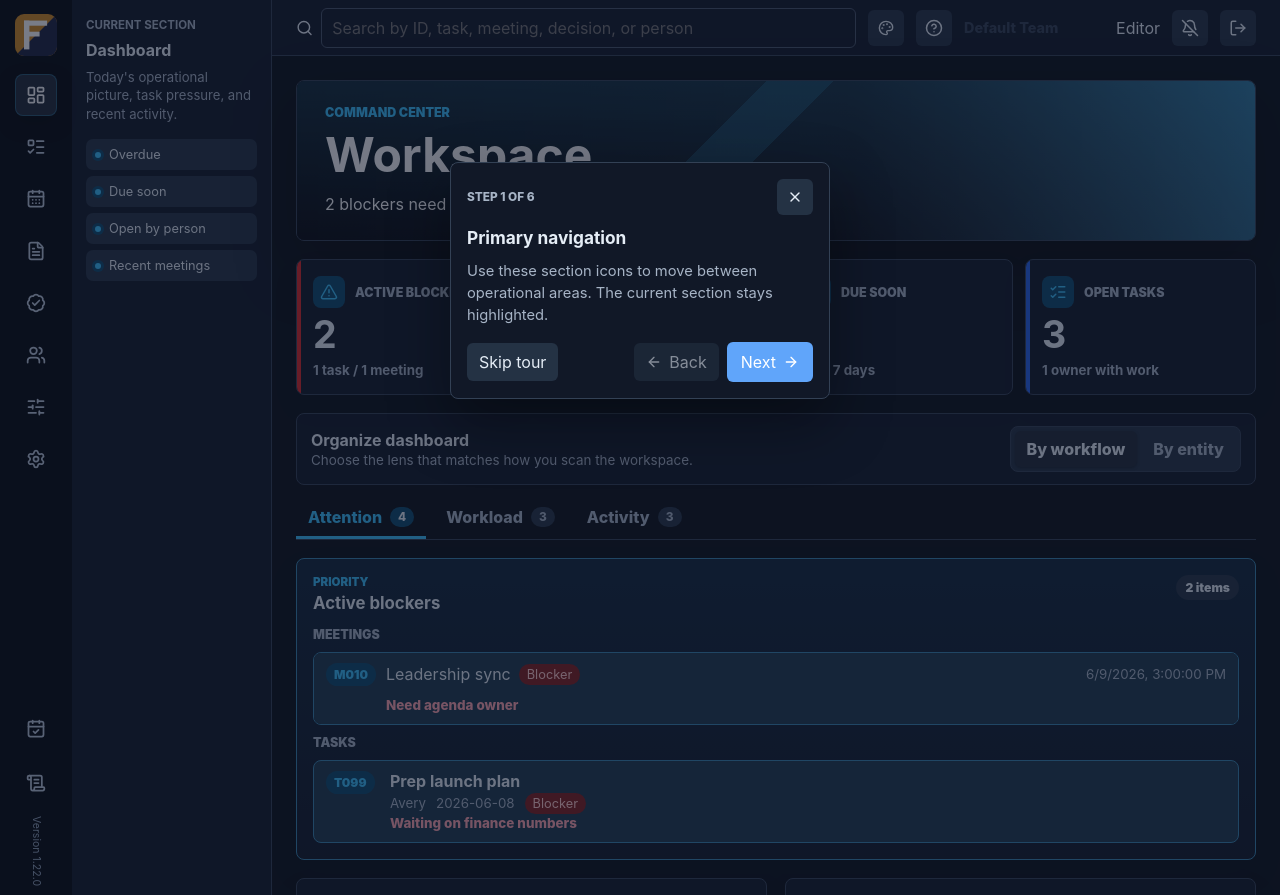
Test: dashboard and workspace flows › expands open tasks by assignee from the dashboard
Click the button "Workload 3": (500, 518) [434,497,567,539]
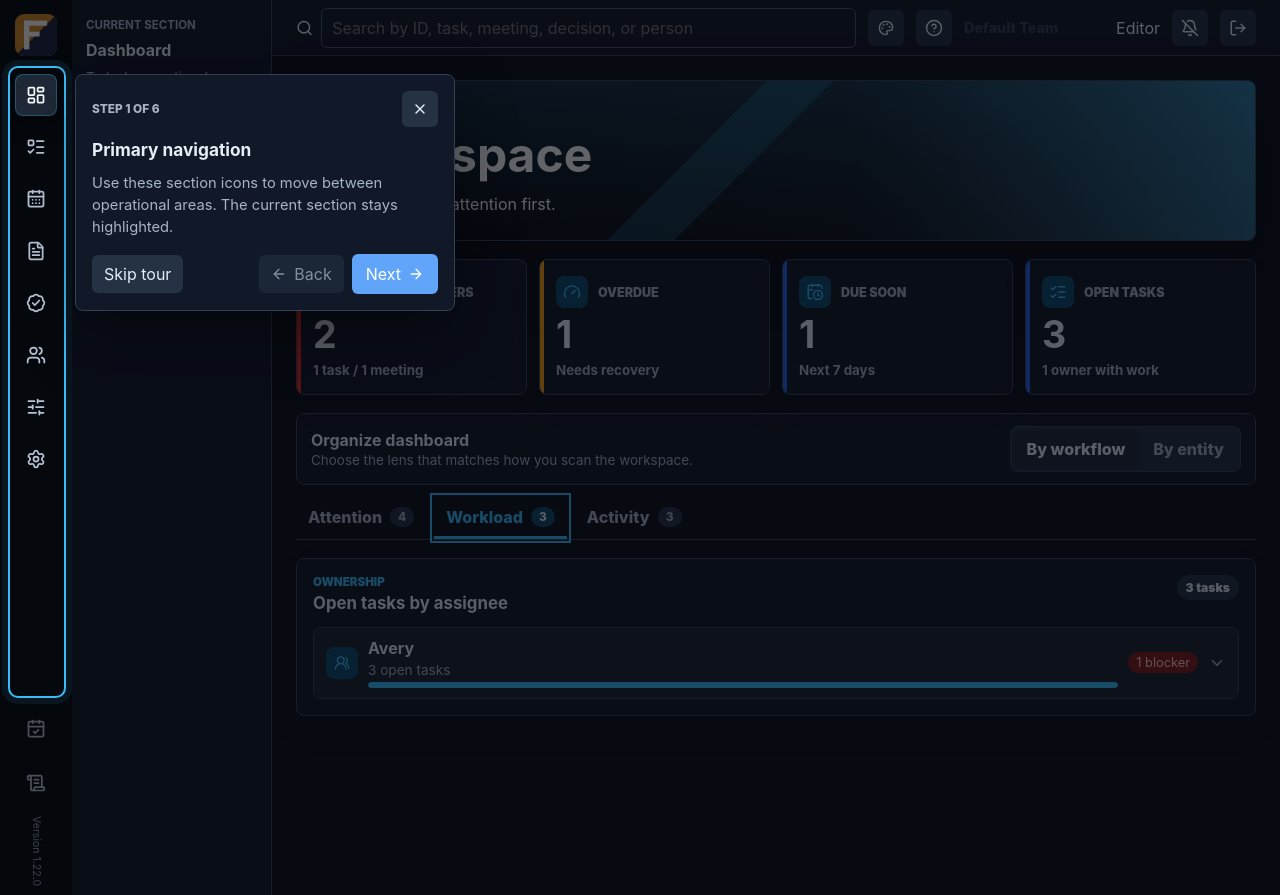
Click the button named "Show open tasks for Avery": (342, 663) [314,628,1238,698]
(page scrolled)
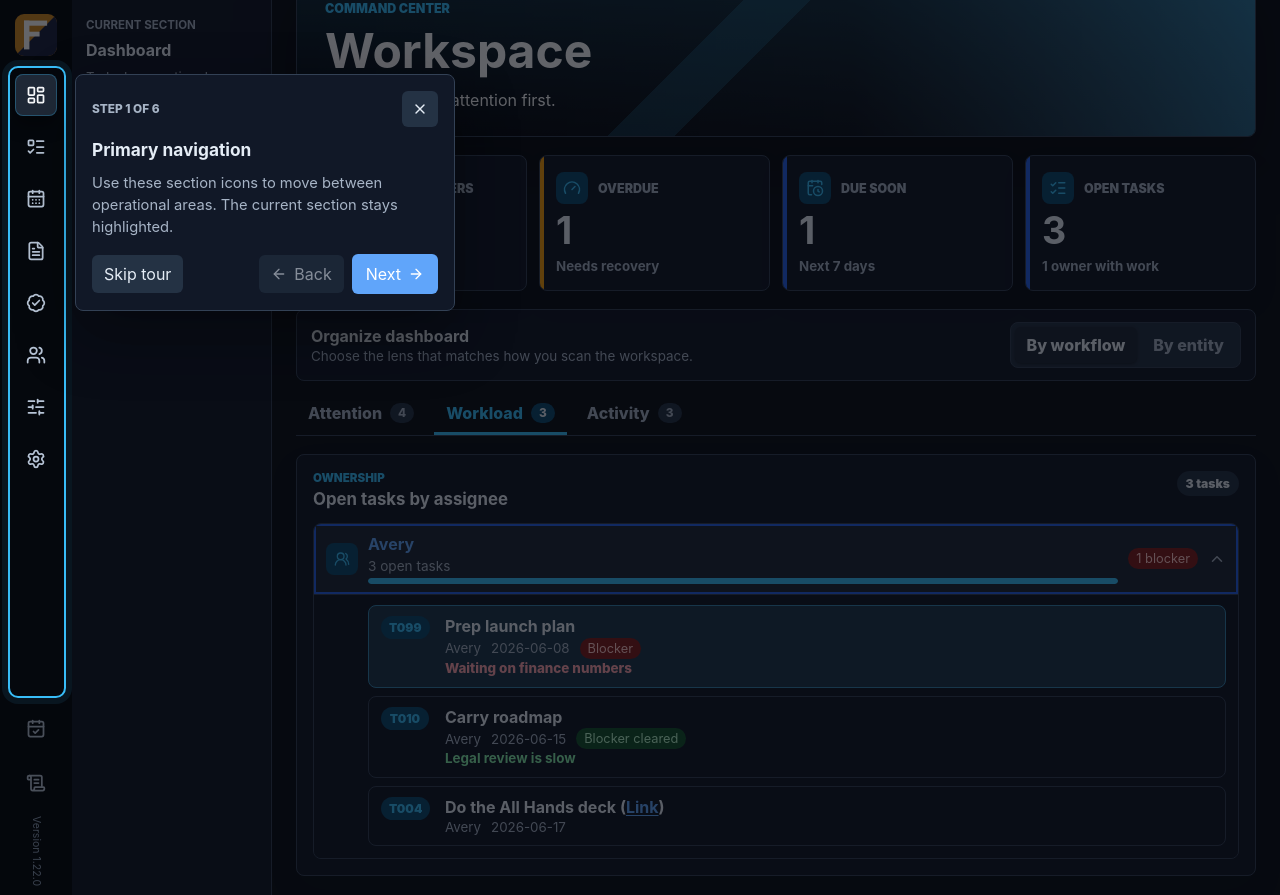
expect the button named "Hide open tasks for Avery" is expanded: met, box [314,524,1238,594]
Click the button named "Open task T004": (407, 809) [381,798,433,820]
(page scrolled)
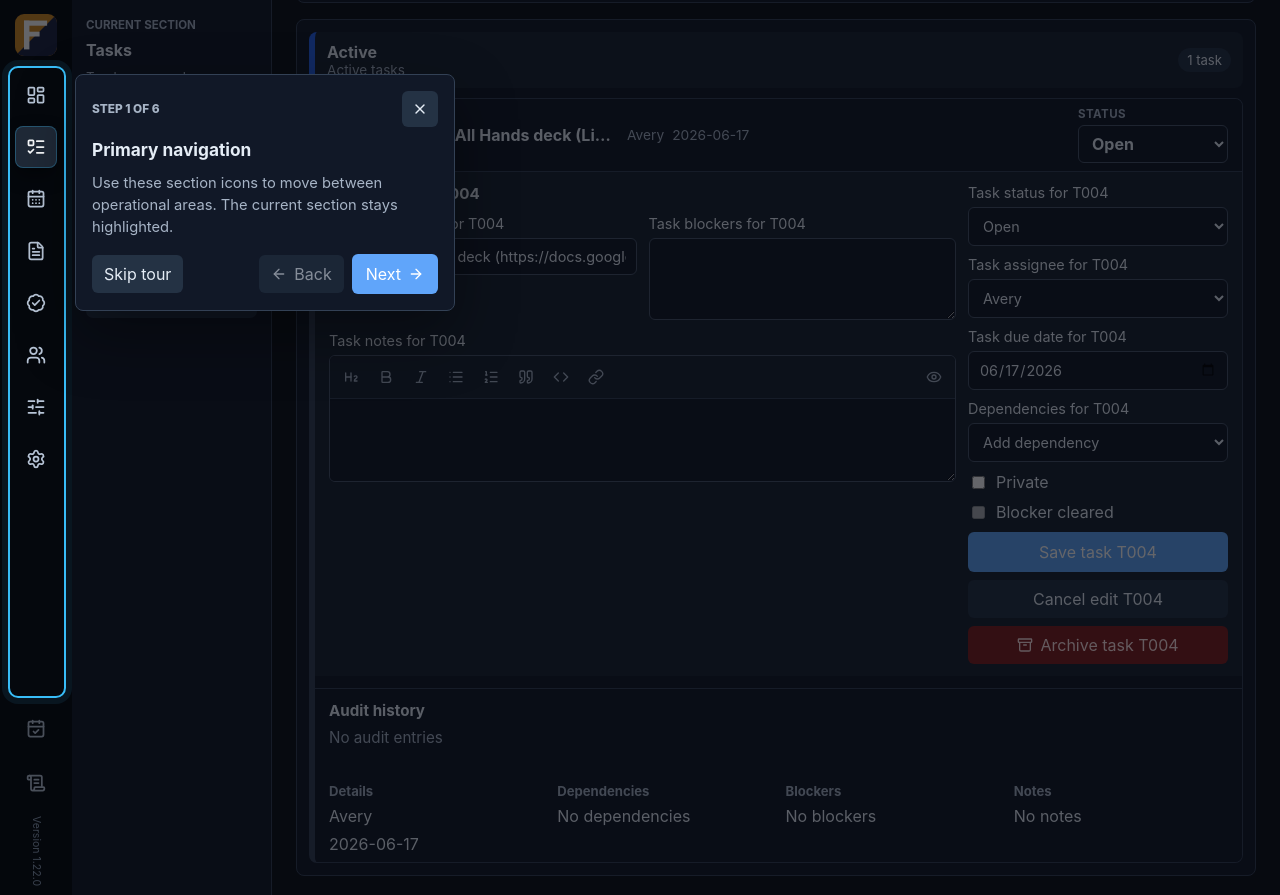
expect the heading "Edit details for T004" is shown: met, box [329,184,480,203]
